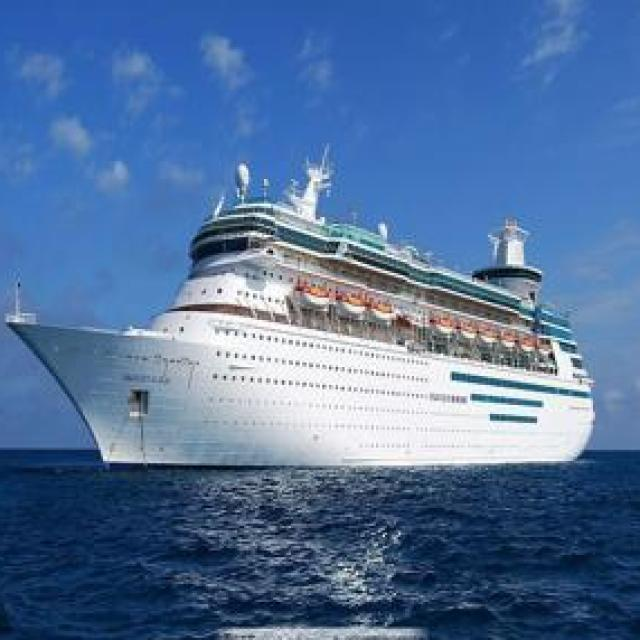passenger ship: (3, 161, 603, 462)
